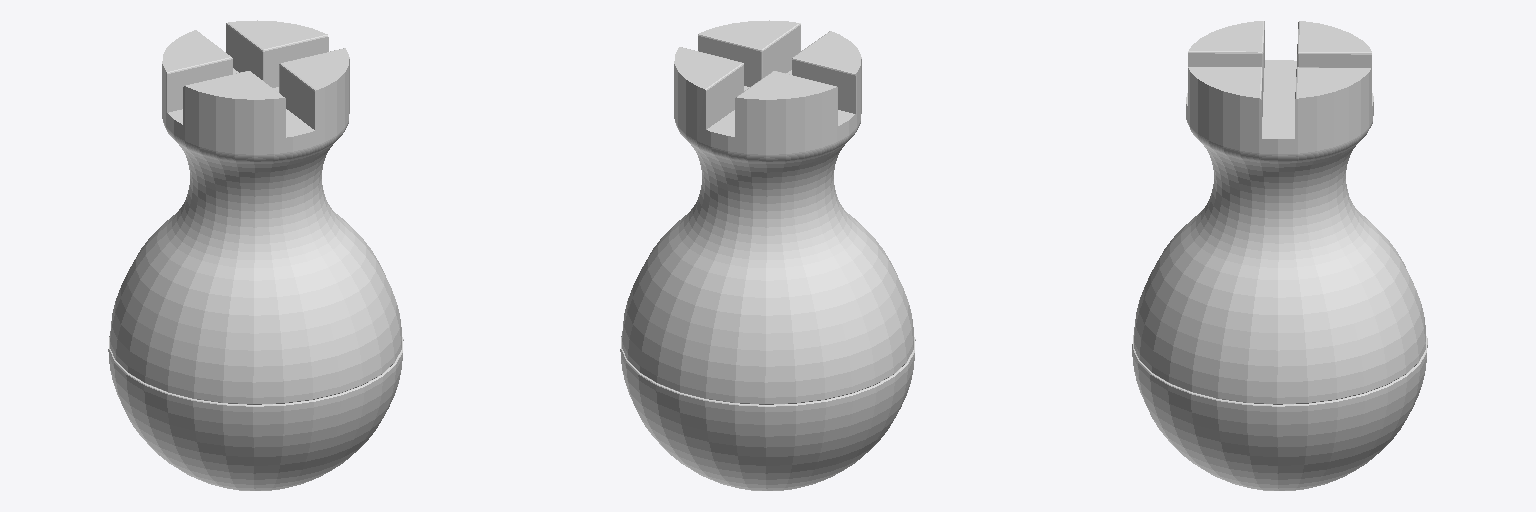
URDF robot description (ChessPawn):
<?xml version="1.0"?>
<robot name="ChessPawn">
  <link name="pawn_body">
    <visual>
      <origin xyz="0 0 0" rpy="0 0 0"/>
      <geometry>
        <mesh filename="./meshes/Rook.stl" scale="0.003 0.003 0.003"/>
      </geometry>
      <material name="pawn_material">
        <color rgba="0.9 0.9 0.9 1.0"/>
      </material>
    </visual>
    <collision>
      <origin xyz="0 0 0.025" rpy="0 0 0"/>
      <geometry>
        <cylinder radius="0.012" length="0.05"/>
      </geometry>
    </collision>
    <inertial>
      <origin xyz="0 0 0.025" rpy="0 0 0"/>
      <mass value="0.04"/> <!-- 40 grams, or adjust -->
      <inertia
        ixx="0.00005" ixy="0.0" ixz="0.0"
        iyy="0.00005" iyz="0.0"
        izz="0.00001"/>
    </inertial>
  </link>
</robot>

--- Facts derived from the render (not from the file) ---
3 views of the same robot in one strip: view 1: azimuth 30°, elevation 25°; view 2: azimuth 150°, elevation 25°; view 3: azimuth 270°, elevation 25° (orthographic).
Robot: ChessPawn — 1 links, 0 joints (none); root link pawn_body; default pose: every joint at zero.
Links seen in each view (by area): view 1: pawn_body; view 2: pawn_body; view 3: pawn_body.
Link boxes in pixels (x1,y1,x2,y2): pawn_body: (108, 20, 403, 490); pawn_body: (620, 20, 915, 490); pawn_body: (1132, 21, 1427, 490).
Size in the robot's own frame: 0.0524 by 0.0522 by 0.0816 metres.
Meshes: 1 distinct files referenced, 1 mesh visuals loaded (1 binary STL).